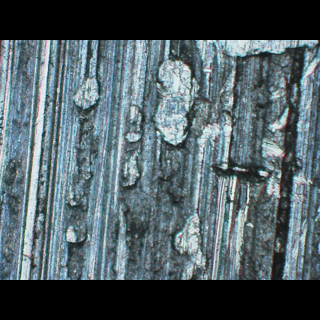d: (151, 52, 201, 148), (61, 115, 97, 246), (172, 209, 209, 271), (69, 73, 100, 111), (120, 102, 145, 148), (117, 150, 145, 187)
